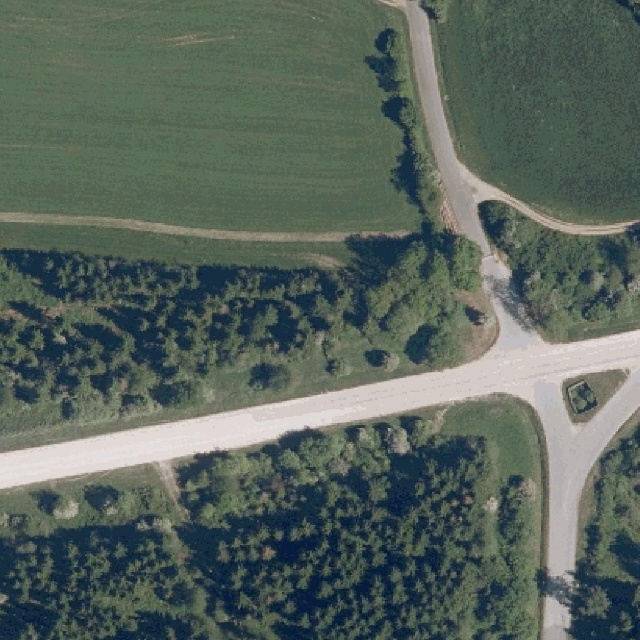vegetation: (0, 31, 486, 421), (185, 417, 540, 639), (1, 514, 216, 640), (480, 199, 639, 329), (577, 427, 639, 640)
